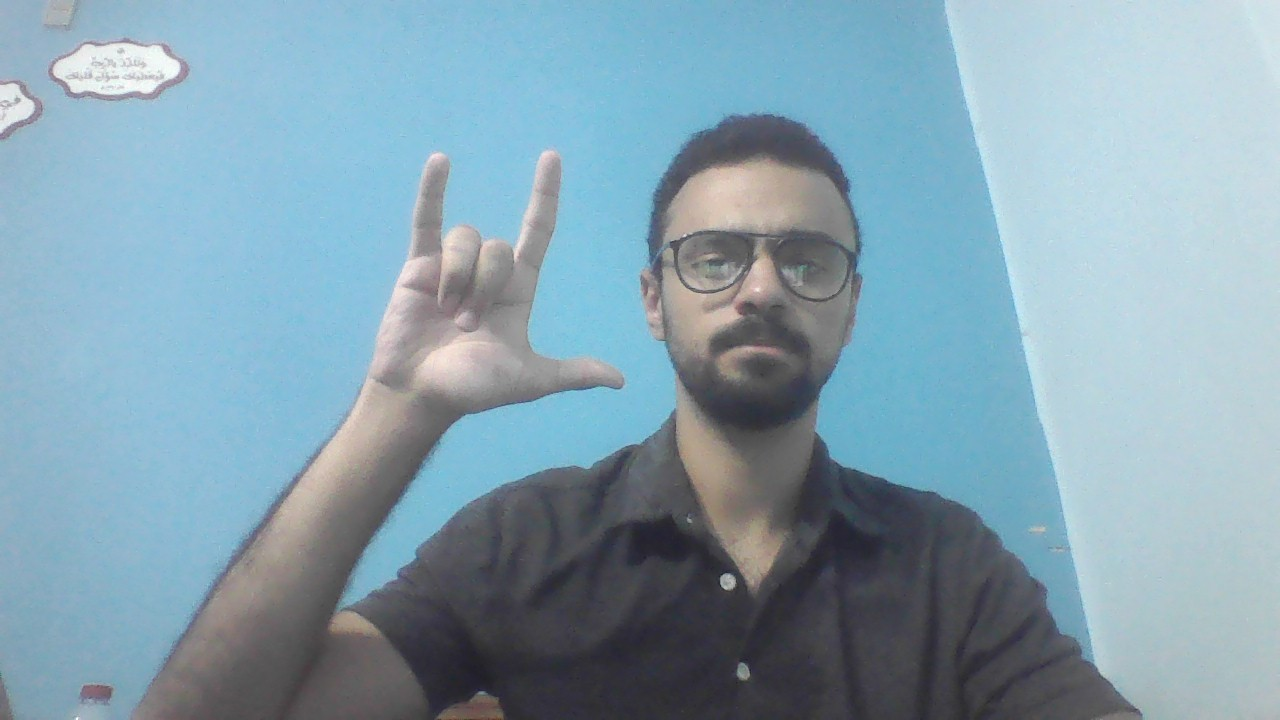love: (372, 149, 629, 416)
